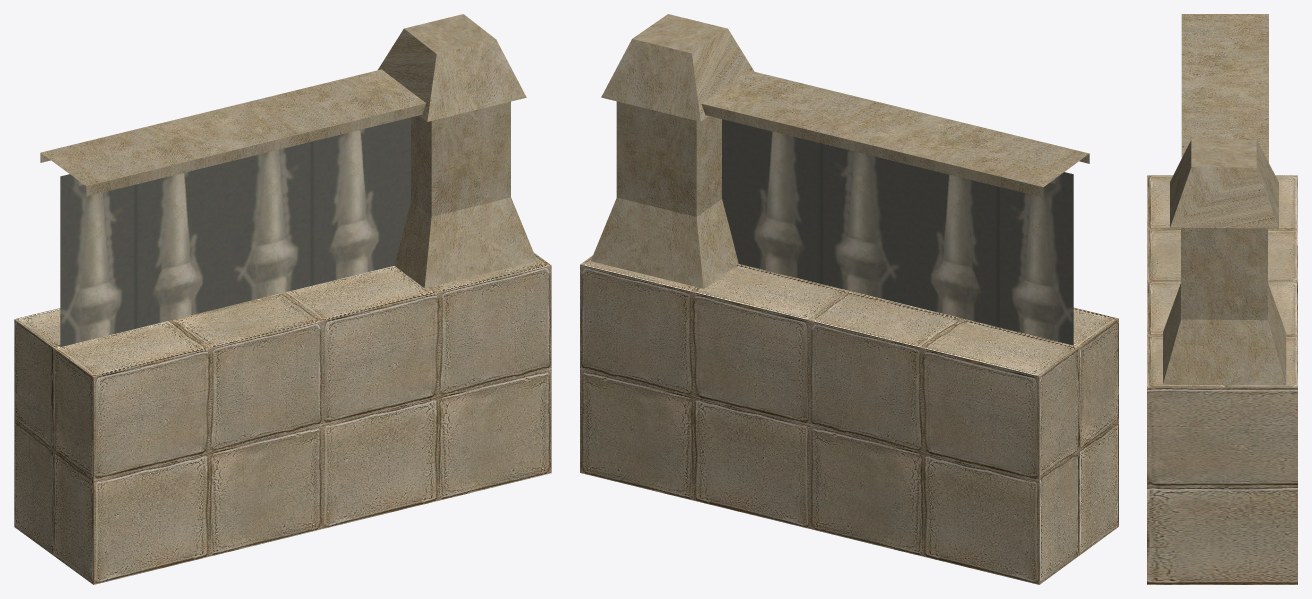
The model's file is thm_nboo_imprv_pillar_wall_small_s01_l1.fbx.
3 views of the same model, side by side, from view 1: azimuth 30°, elevation 25°; view 2: azimuth 150°, elevation 25°; view 3: azimuth 270°, elevation 25° (orthographic). The views are drawn at different scales.
Parts seen in each view (by area): view 1: mesh_node; view 2: mesh_node; view 3: mesh_node.
Boxes of the visible parts, x1,y1,x2,y2 form: mesh_node: [14, 14, 551, 584]; mesh_node: [580, 14, 1118, 584]; mesh_node: [1147, 14, 1297, 584].
Bounding box in the file's own units: 2.3 × 2.04 × 0.6912.
